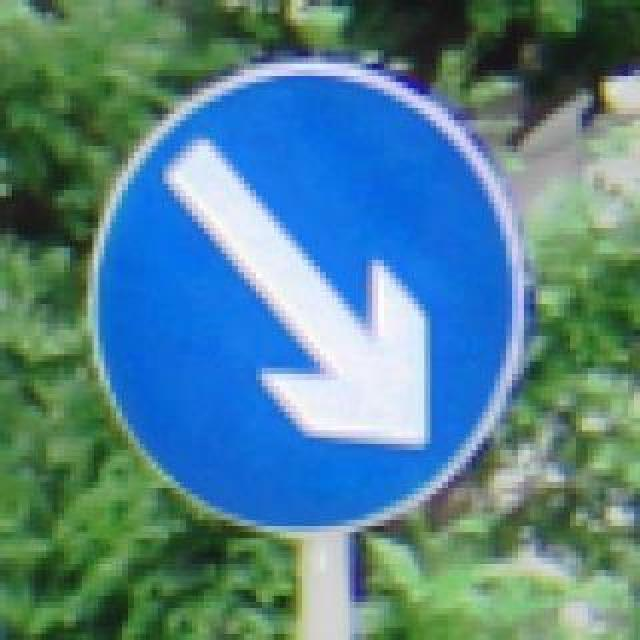keep right: (82, 52, 524, 532)
